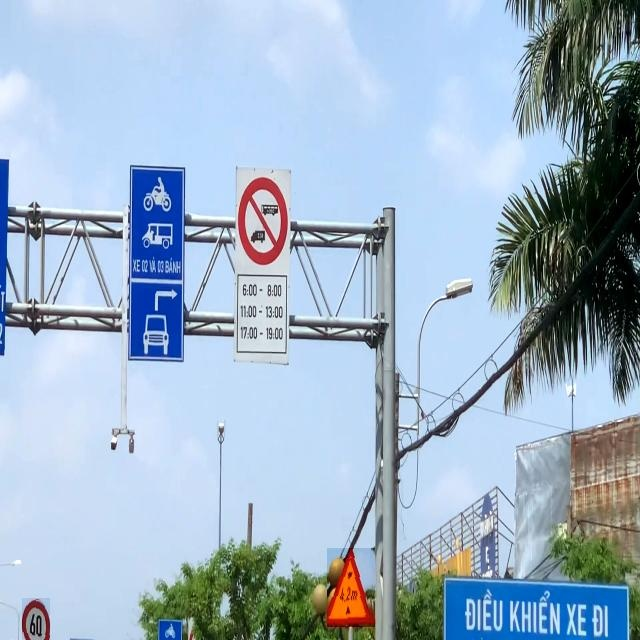bien_cam: (327, 548, 375, 627), (22, 598, 50, 640)
